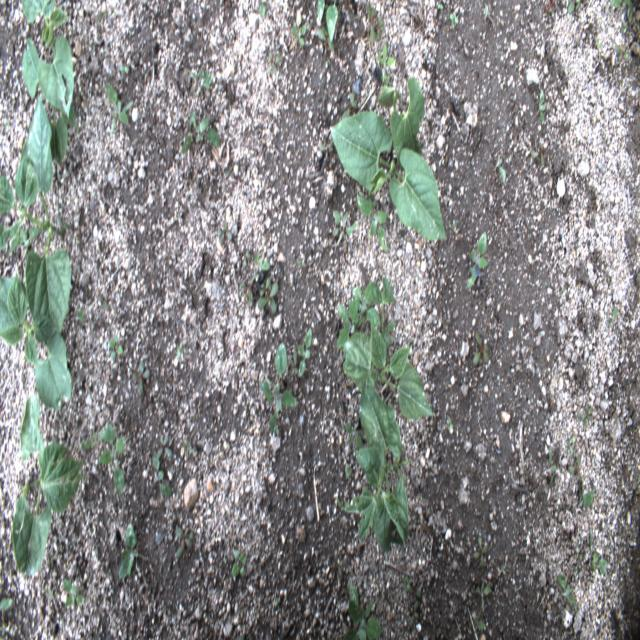crop: (0, 94, 71, 347), (331, 110, 448, 242), (12, 392, 86, 577), (336, 382, 410, 554), (0, 271, 73, 411), (342, 319, 435, 419), (20, 36, 80, 165), (22, 0, 74, 118), (379, 78, 425, 168), (371, 274, 396, 346)
weed: (259, 341, 297, 442), (343, 582, 382, 640), (100, 422, 126, 495), (357, 195, 388, 254), (180, 110, 220, 155), (105, 81, 134, 135), (351, 279, 381, 329), (466, 231, 489, 289), (336, 297, 358, 348), (119, 522, 138, 580), (332, 207, 358, 246), (153, 449, 173, 498), (297, 326, 313, 378), (375, 43, 396, 81), (557, 575, 578, 613), (257, 281, 280, 315), (289, 9, 309, 47), (590, 534, 608, 575), (131, 360, 150, 397), (175, 526, 195, 560), (63, 577, 84, 608), (239, 271, 257, 307), (472, 328, 489, 366), (344, 422, 366, 451), (185, 67, 212, 89), (476, 577, 492, 613), (81, 429, 109, 449), (252, 252, 270, 283), (342, 90, 358, 124), (611, 0, 633, 24), (326, 0, 338, 43), (155, 432, 173, 460), (317, 26, 335, 54), (231, 548, 247, 579), (473, 538, 488, 570), (365, 4, 377, 43), (216, 219, 232, 247), (547, 447, 558, 486), (576, 485, 595, 507), (568, 453, 582, 482), (21, 227, 40, 248), (266, 50, 281, 76), (110, 334, 123, 362), (537, 90, 547, 126), (408, 599, 420, 628), (474, 608, 485, 638), (494, 158, 506, 185), (530, 142, 544, 165), (615, 44, 631, 64), (581, 402, 593, 426), (260, 274, 272, 297), (182, 439, 196, 458), (563, 434, 575, 456), (241, 250, 252, 273), (318, 138, 336, 151), (317, 0, 326, 25), (334, 553, 343, 578), (290, 350, 298, 378), (566, 0, 580, 15), (0, 597, 13, 613), (376, 16, 384, 42), (99, 293, 110, 311), (408, 584, 421, 599), (329, 228, 339, 245), (402, 574, 412, 590), (259, 0, 267, 18), (449, 12, 458, 28), (95, 9, 109, 19), (176, 340, 183, 360), (612, 305, 619, 324), (344, 463, 351, 480), (484, 3, 491, 19), (76, 309, 84, 322), (450, 220, 457, 233), (120, 66, 129, 73), (437, 3, 444, 9)
